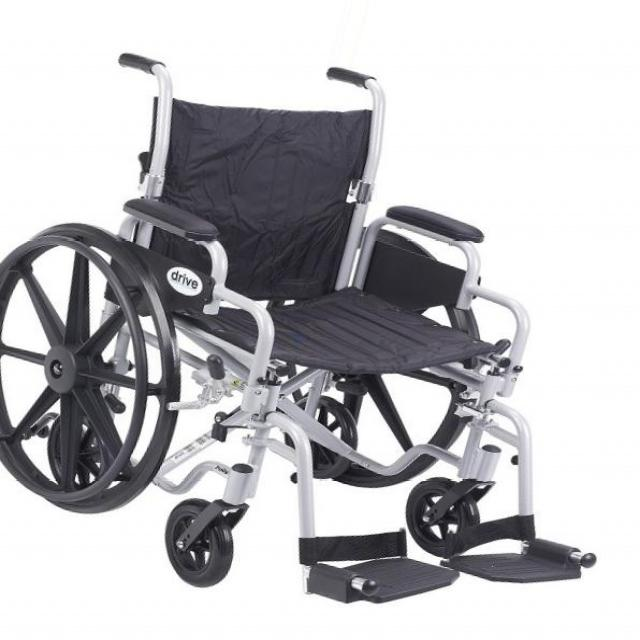wheelchair: (1, 39, 610, 607)
